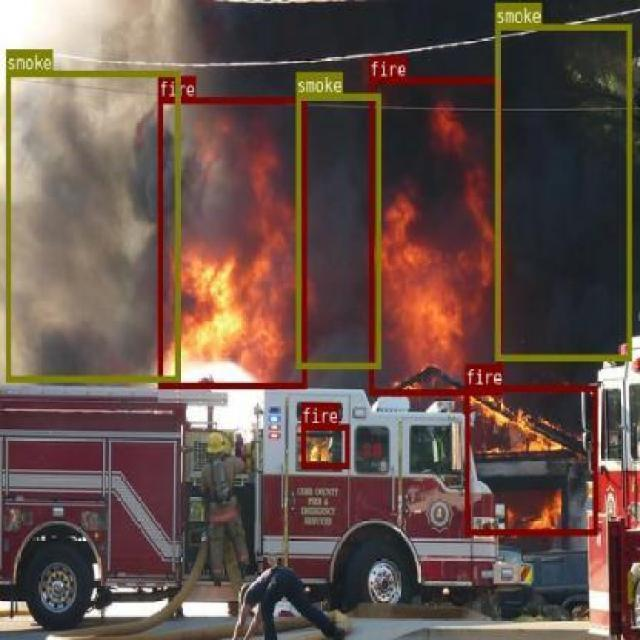Fire: (160, 132, 308, 396), (364, 124, 514, 376), (448, 382, 592, 546), (305, 440, 348, 470)
Smoke: (134, 10, 626, 237), (25, 0, 210, 388), (492, 2, 640, 400), (290, 0, 408, 400)
